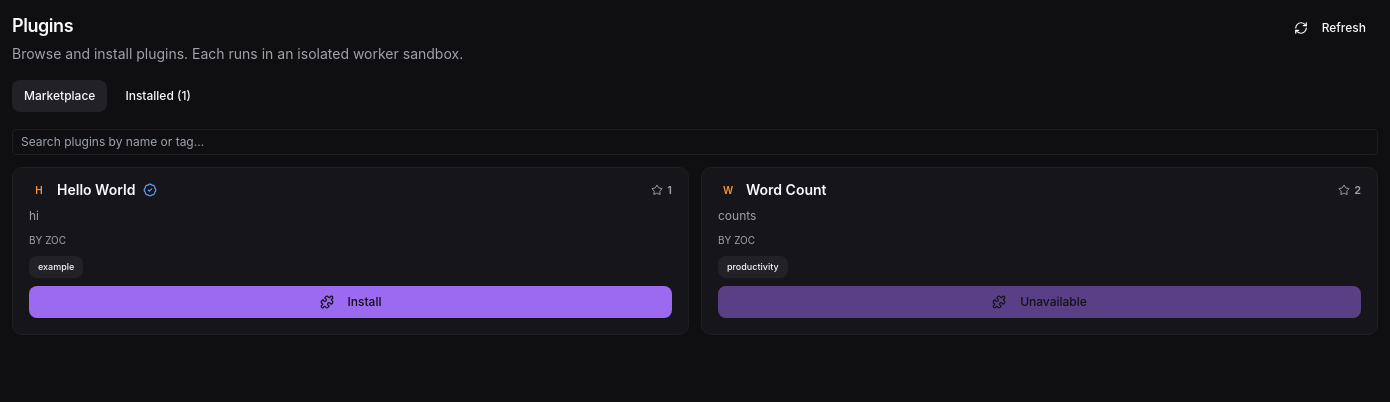
downloads a binary zip and installs its validated entry code
Expected: the text "Hello World" is shown, [57,181,135,198]
Click the button "Install" at [350, 302], box [29,286,672,318]
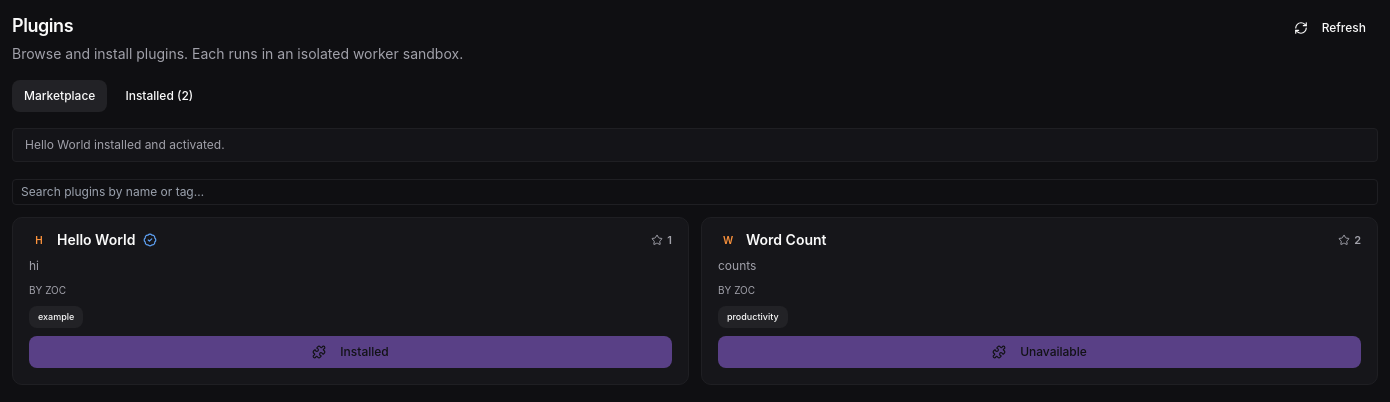
Now the text "Hello World installed and activated." is shown, box [12,128,1378,162]
